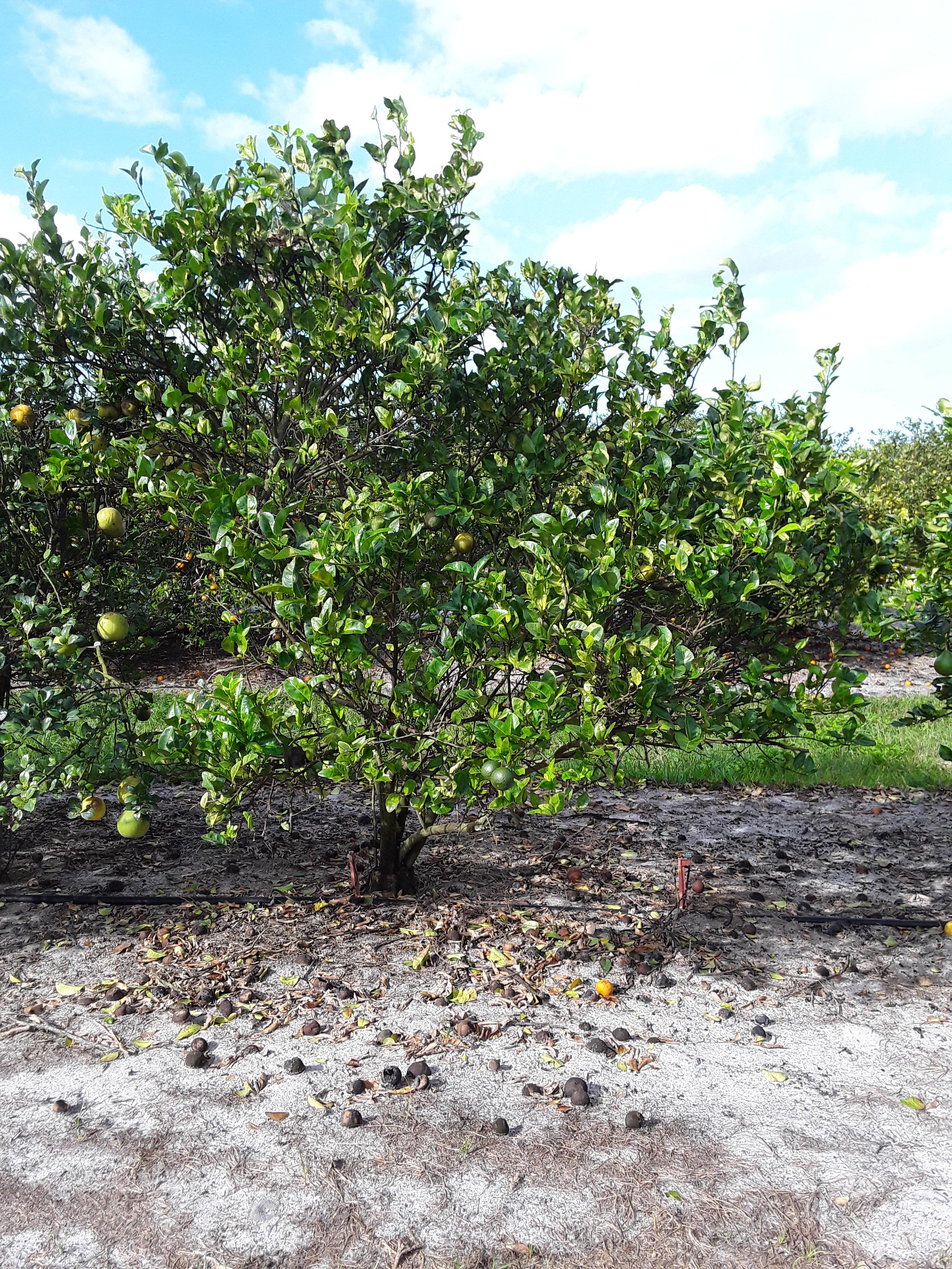fruit_on_ground: (114, 772, 155, 807), (118, 801, 152, 841), (97, 608, 128, 646), (94, 503, 123, 540), (133, 433, 167, 464), (75, 428, 109, 455), (91, 394, 120, 423), (49, 630, 79, 658), (61, 402, 91, 428), (489, 764, 516, 792), (930, 644, 952, 678), (452, 530, 475, 562), (80, 794, 105, 823), (10, 395, 33, 426), (631, 559, 659, 584), (421, 506, 447, 530), (478, 757, 501, 780), (133, 704, 153, 721), (226, 611, 241, 624), (172, 559, 185, 570), (208, 582, 220, 590), (200, 593, 209, 600)
fruit_on_tree: (187, 1038, 215, 1071), (596, 981, 620, 1007), (564, 870, 586, 893), (939, 921, 952, 937), (690, 879, 706, 892), (155, 673, 165, 683), (903, 678, 912, 686), (889, 649, 897, 658), (894, 648, 904, 654), (805, 630, 814, 636), (865, 644, 872, 651), (885, 662, 891, 670), (810, 659, 816, 665)
